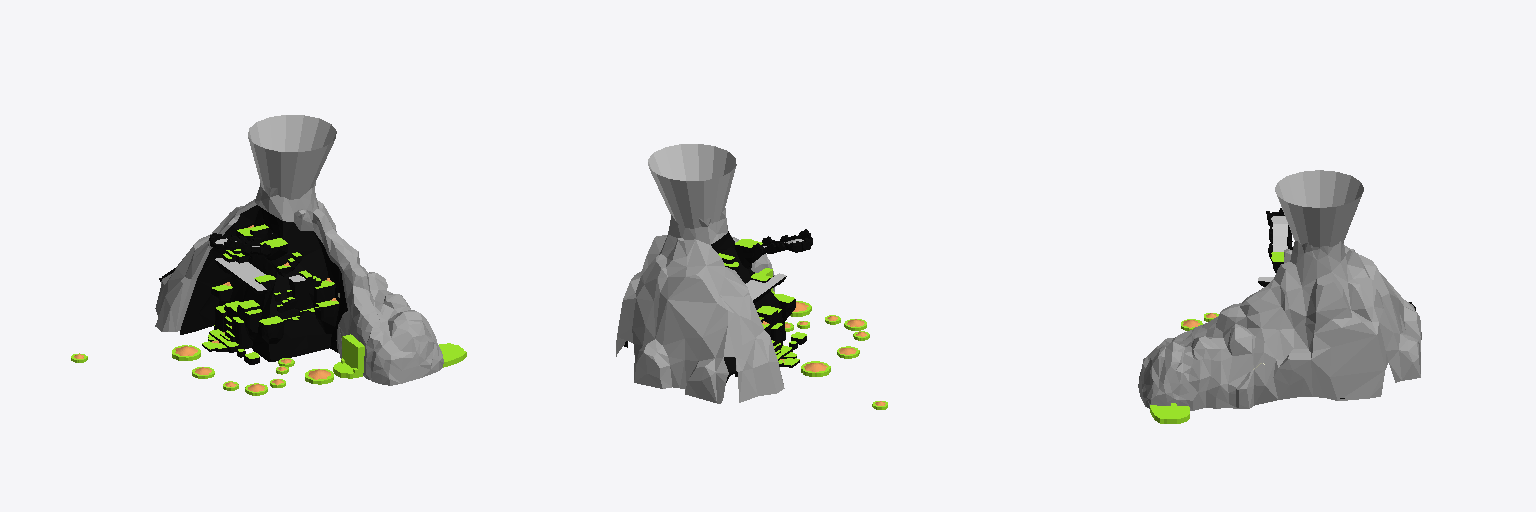
The model's file is LavaGroundB.obj.
The picture shows the model from 3 angles: view 1: azimuth 30°, elevation 25°; view 2: azimuth 150°, elevation 25°; view 3: azimuth 270°, elevation 25°; orthographic projection.
Parts seen in each view (by area): view 1: LavaWorldHomeGround007.obj; view 2: LavaWorldHomeGround007.obj; view 3: LavaWorldHomeGround007.obj.
Boxes of the visible parts, x1=… form: LavaWorldHomeGround007.obj: x1=71, y1=115, x2=466, y2=395; LavaWorldHomeGround007.obj: x1=616, y1=144, x2=887, y2=409; LavaWorldHomeGround007.obj: x1=1138, y1=170, x2=1421, y2=423.
Bounding box in the file's own units: 21898 × 13006 × 17734.